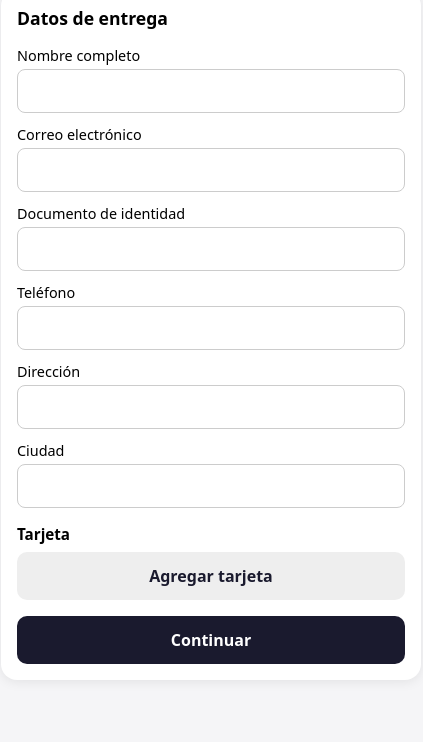
Test: CheckoutPage › blocks continuing until delivery form and card are both valid
This screenshot has width=423, height=742.
Click the button "Continuar" at (211, 640), box [17,616,405,664]
(page scrolled)
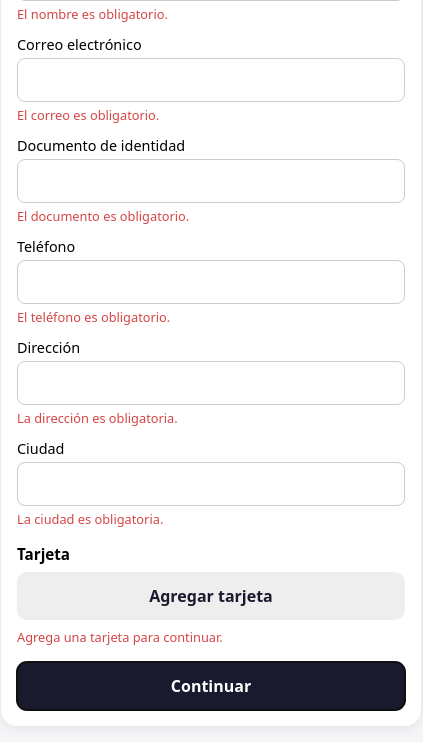
Expected: the text "Agrega una tarjeta para continuar." is shown, [17,628,223,646]
